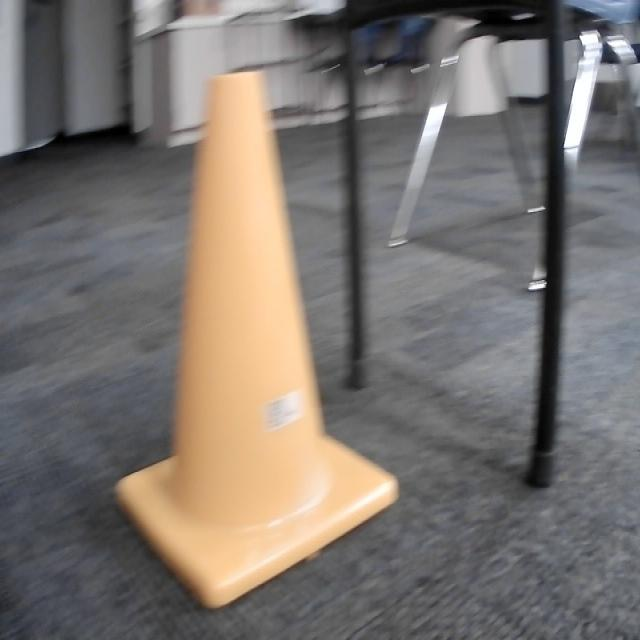cone: (112, 71, 400, 615)
